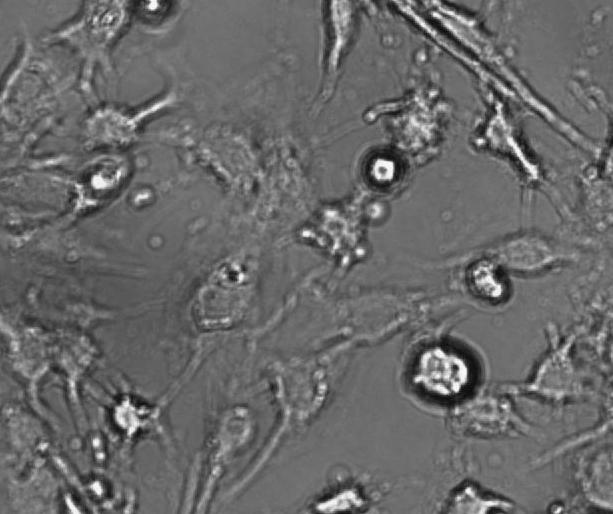Dead: (393, 331, 495, 418), (54, 147, 138, 220), (103, 389, 159, 442), (356, 140, 410, 194), (463, 254, 514, 309), (300, 480, 376, 513), (126, 1, 181, 24)
